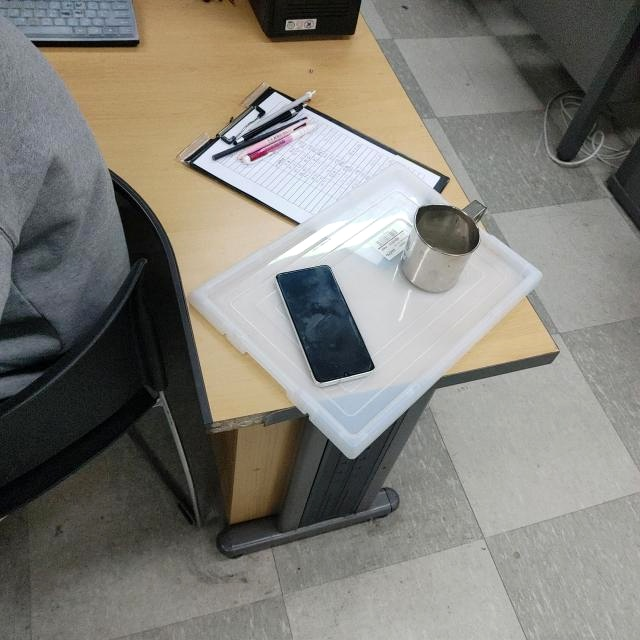cup: (396, 198, 489, 294)
phone: (274, 265, 378, 389)
